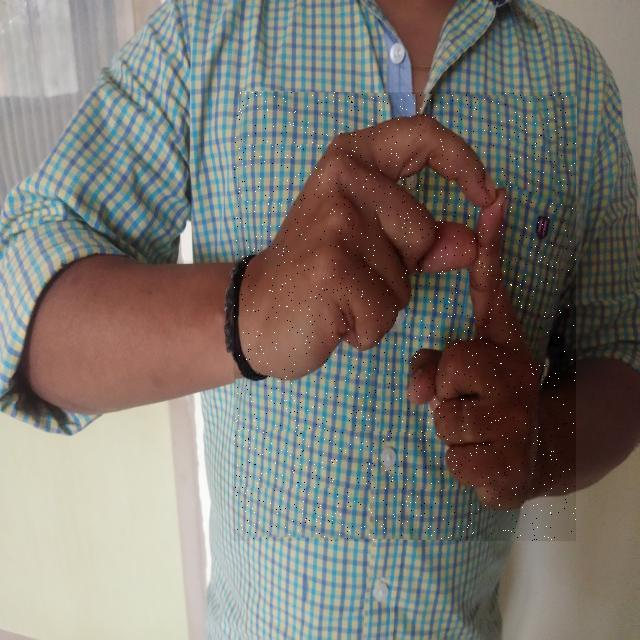P: (234, 92, 576, 541)
